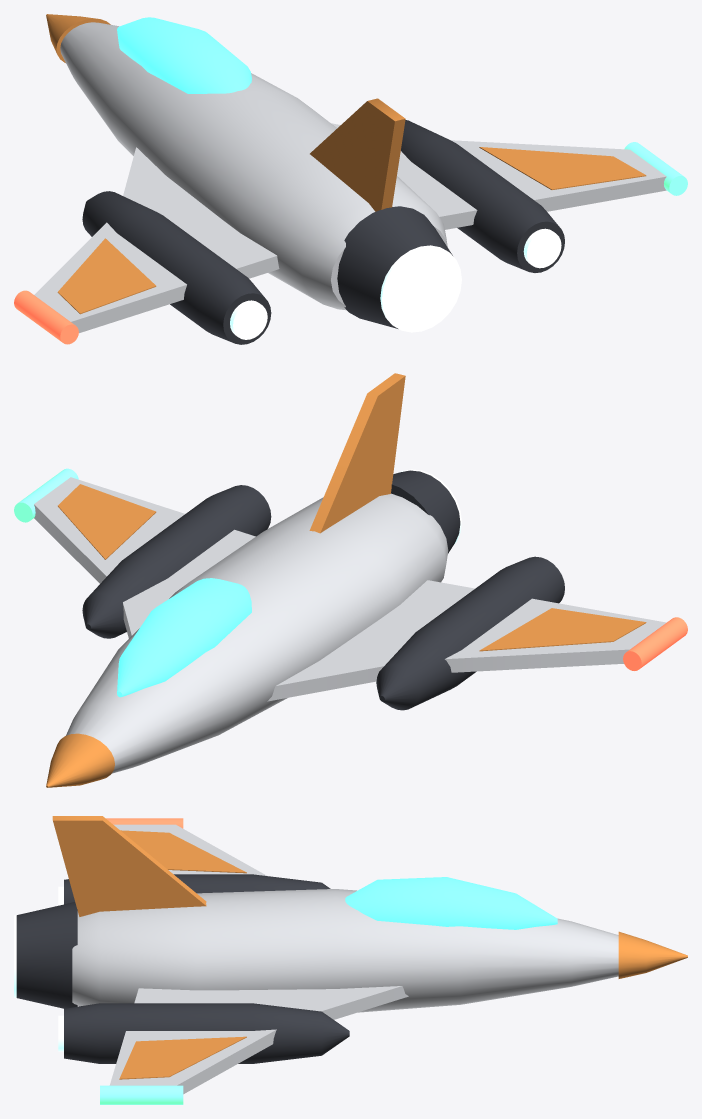
File: ship.glb
3 views of the same model, one above another, from view 1: azimuth 30°, elevation 25°; view 2: azimuth 150°, elevation 25°; view 3: azimuth 270°, elevation 25° (orthographic). The views are drawn at different scales.
Parts seen in each view (by area): view 1: Ship; view 2: Ship; view 3: Ship.
Boxes of the visible parts, bbox=[...] form: Ship: bbox=[14, 14, 687, 344]; Ship: bbox=[14, 373, 687, 787]; Ship: bbox=[14, 816, 687, 1104].
Size of the model in its own units: 2.35 by 0.76 by 2.43.
